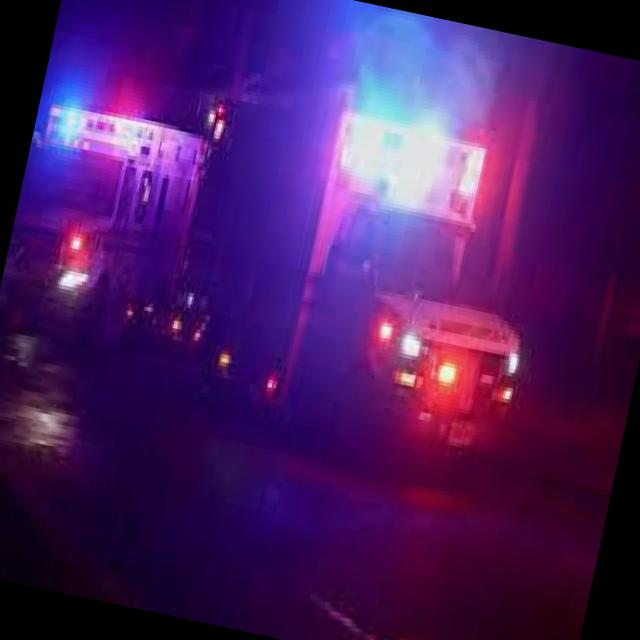ambulance: (157, 64, 586, 507), (0, 65, 211, 418)
